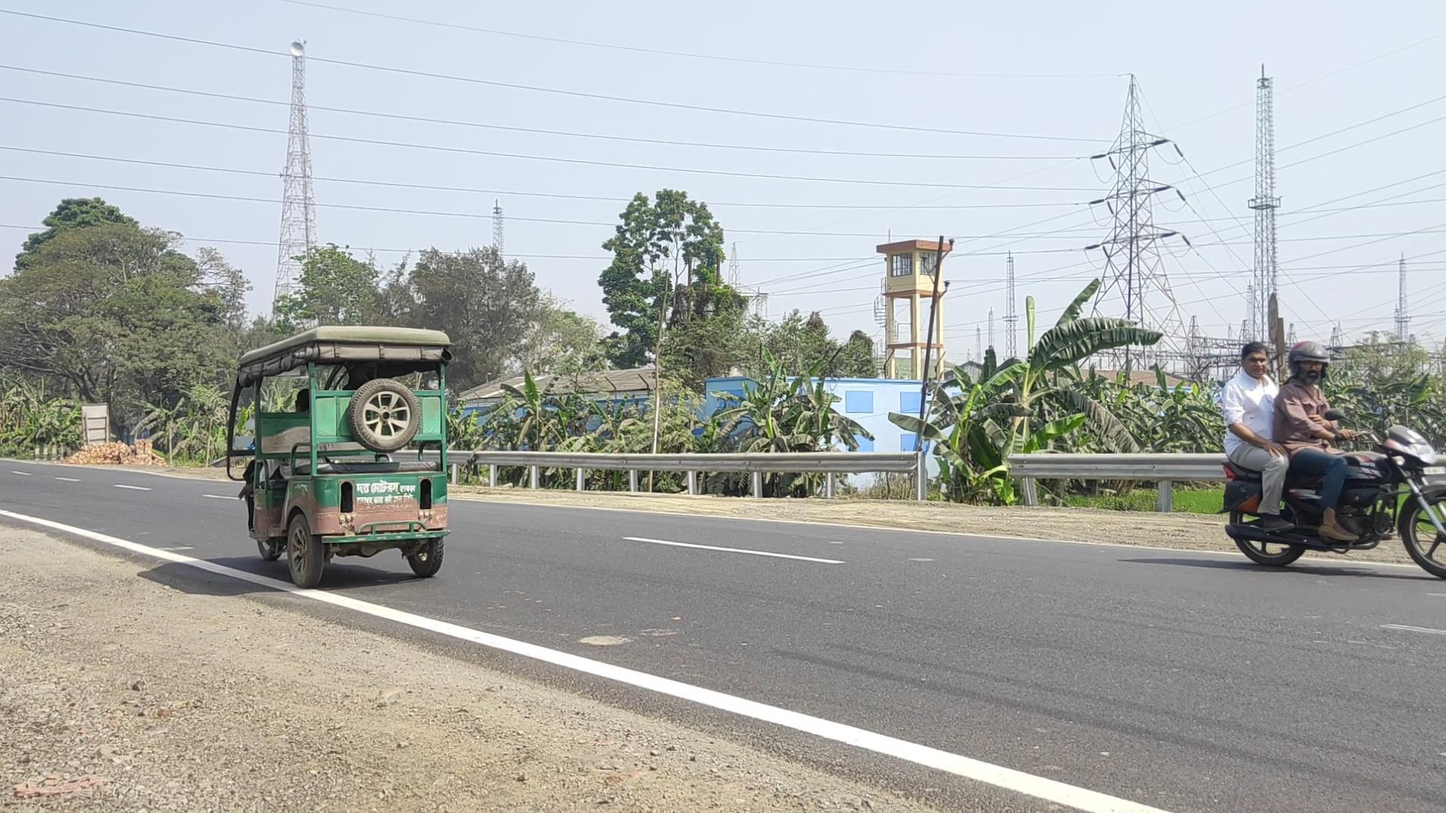Auto: (225, 326, 451, 590)
bike: (1217, 342, 1446, 581)
